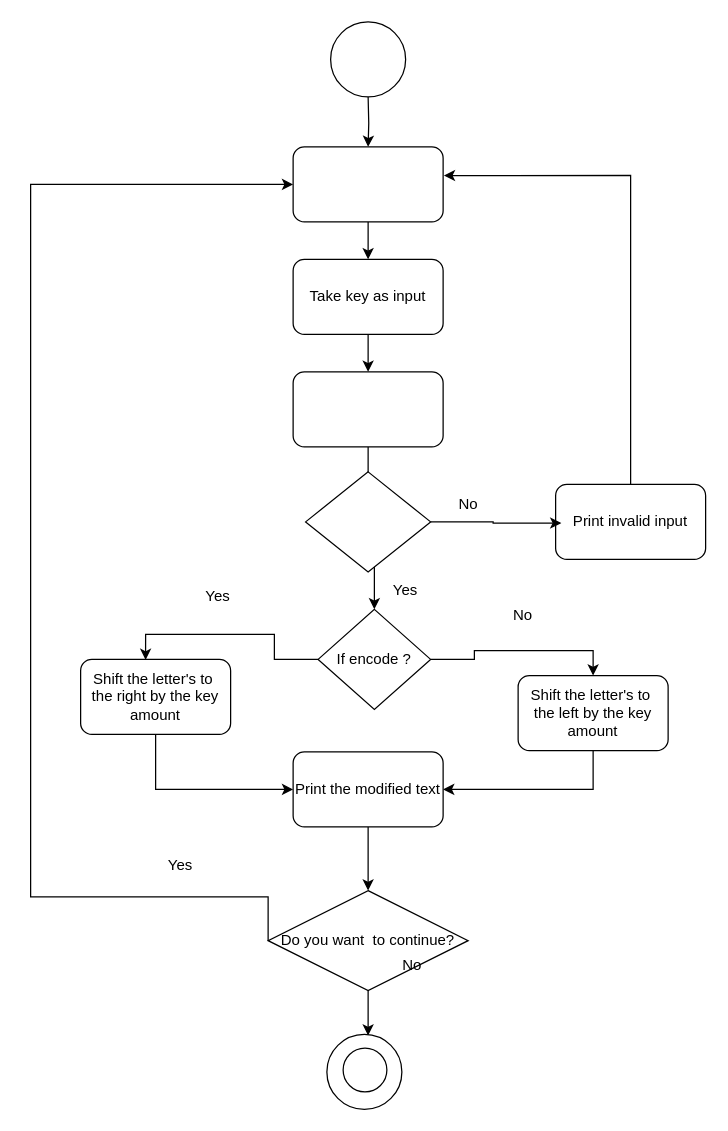
Image size: 728x1131. Some labels were removed from this diagram. The shapes that lost their labels are listed below. From the top down, each one's centre as x and y in pixels, then its label:
the point at 367,184: Take plain text as input
the point at 367,409: Take input to identify encode/decode
the point at 367,521: If inputs are valid
